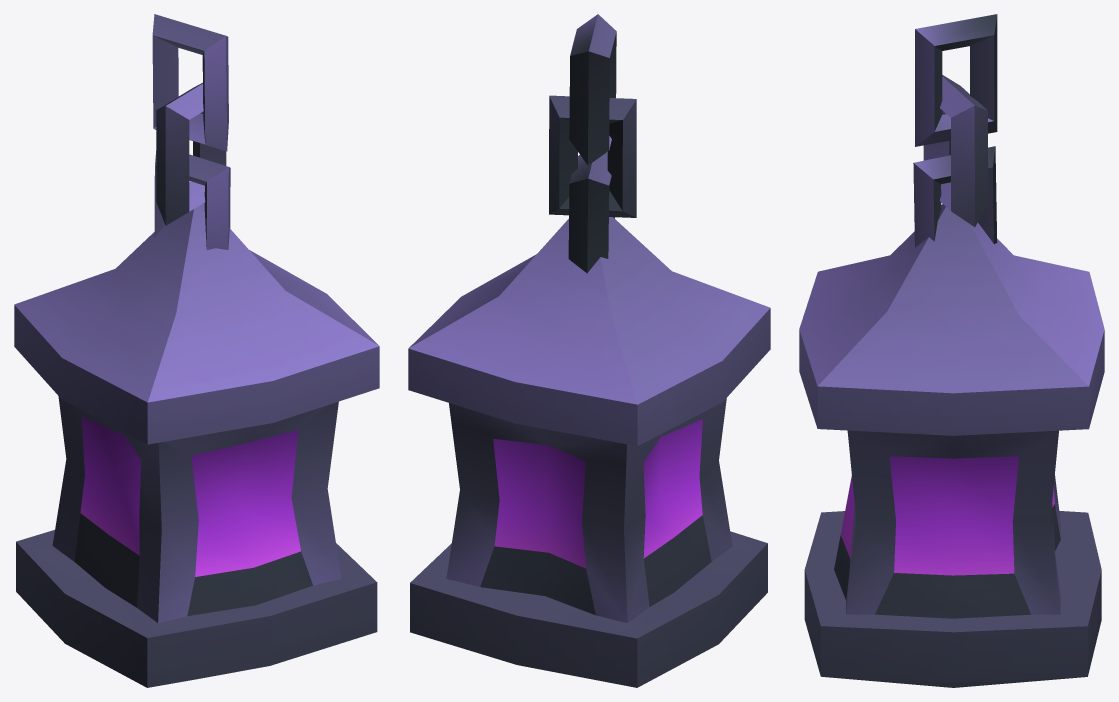
File: undead_lamp.fbx
3 renders of one model, left to right at view 1: azimuth 30°, elevation 25°; view 2: azimuth 150°, elevation 25°; view 3: azimuth 270°, elevation 25°, orthographic. The views are drawn at different scales.
Visible parts, largest first — view 1: undead_lamp; view 2: undead_lamp; view 3: undead_lamp.
Part boxes in pixels (bbox=[...]): undead_lamp: bbox=[14, 14, 379, 687]; undead_lamp: bbox=[408, 14, 770, 687]; undead_lamp: bbox=[799, 14, 1104, 687].
Bounding box in the file's own units: 0.7973 × 1.89 × 0.7868.
